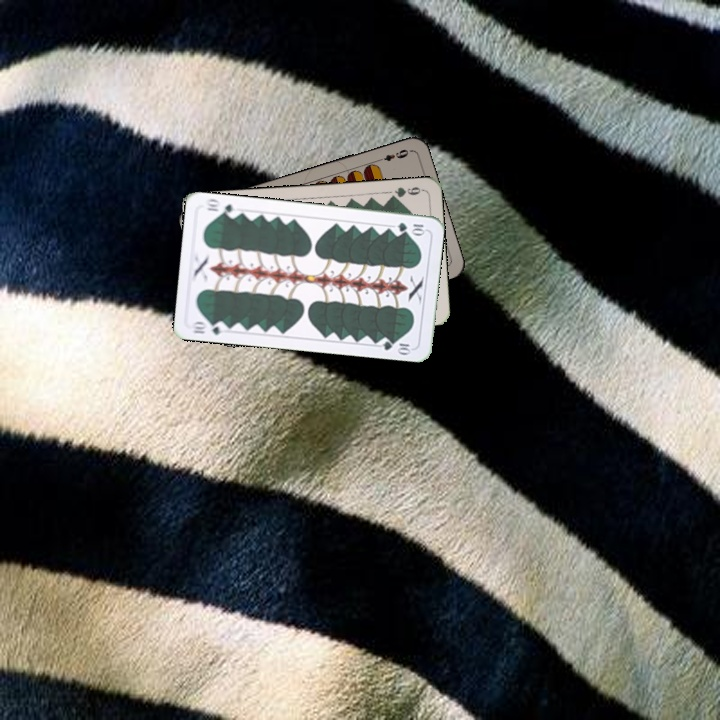E9: (373, 145, 411, 165)
G10: (188, 317, 229, 337), (393, 218, 428, 237)
G9: (385, 183, 425, 202)
